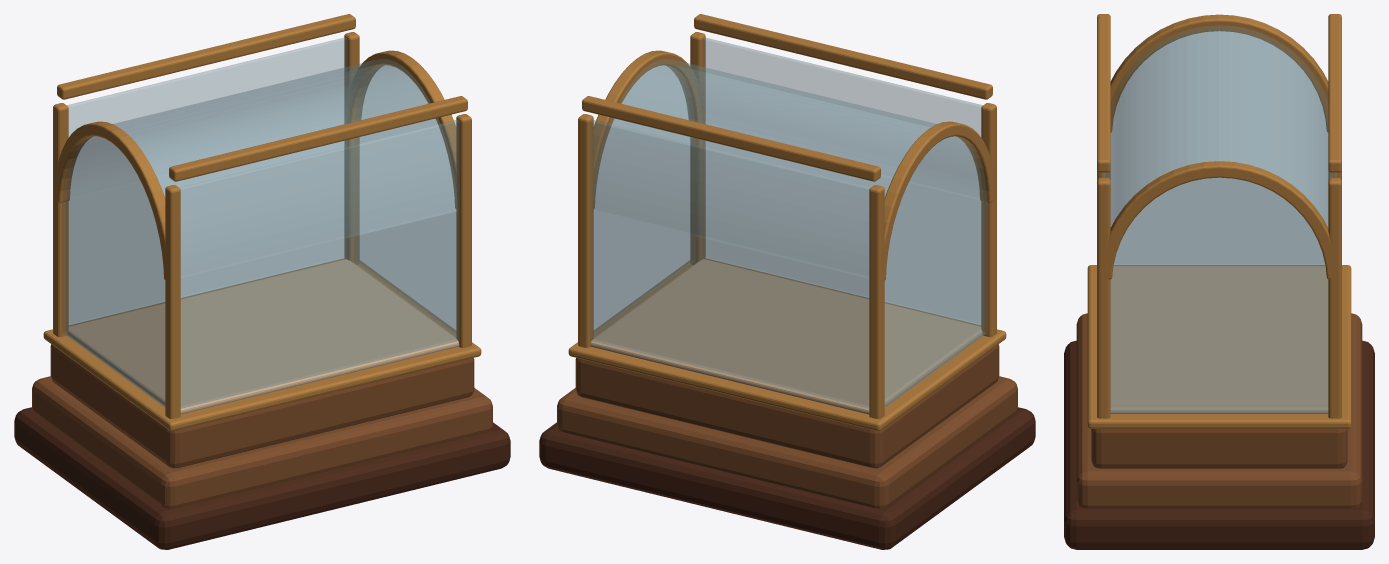
File: opening-studio-display.glb
The picture shows the model from 3 angles, left to right: view 1: azimuth 30°, elevation 25°; view 2: azimuth 150°, elevation 25°; view 3: azimuth 270°, elevation 25°; orthographic projection. The views are drawn at different scales.
Parts seen in each view (by area): view 1: glass__display_front, glass__display_curved_roof, plaster__display_empty_deck, glass__display_back, glass__display_side_left, wood__display_foot, wood__display_plinth_lower, wood__display_plinth_upper, glass__display_side_right, brass__display_plinth_band, brass__display_front_rail, brass__display_back_rail (+6 smaller); view 2: glass__display_back, glass__display_curved_roof, plaster__display_empty_deck, glass__display_front, glass__display_side_left, wood__display_foot, wood__display_plinth_lower, wood__display_plinth_upper, glass__display_side_right, brass__display_plinth_band, brass__display_front_rail, brass__display_back_rail (+6 smaller); view 3: glass__display_side_right, glass__display_side_left, plaster__display_empty_deck, glass__display_curved_roof, wood__display_foot, wood__display_plinth_lower, wood__display_plinth_upper, brass__display_plinth_band, brass__display_roof_rib_right, brass__display_roof_rib_left, brass__display_post_03, brass__display_post_04 (+2 smaller).
Part boxes in pixels (left/top/right/bottom): glass__display_front: left=179, top=120, right=459, bottom=408; glass__display_curved_roof: left=70, top=59, right=456, bottom=278; plaster__display_empty_deck: left=67, top=259, right=459, bottom=414; glass__display_back: left=67, top=37, right=346, bottom=325; glass__display_side_left: left=62, top=136, right=164, bottom=407; wood__display_foot: left=14, top=407, right=510, bottom=549; wood__display_plinth_lower: left=32, top=376, right=492, bottom=508; wood__display_plinth_upper: left=50, top=344, right=474, bottom=468; glass__display_side_right: left=354, top=65, right=455, bottom=335; brass__display_plinth_band: left=43, top=258, right=481, bottom=431; brass__display_front_rail: left=169, top=96, right=467, bottom=181; brass__display_back_rail: left=57, top=14, right=355, bottom=99; glass__display_back: left=590, top=120, right=870, bottom=408; glass__display_curved_roof: left=593, top=59, right=979, bottom=278; plaster__display_empty_deck: left=590, top=259, right=982, bottom=414; glass__display_front: left=703, top=37, right=982, bottom=325; glass__display_side_left: left=885, top=136, right=987, bottom=407; wood__display_foot: left=539, top=407, right=1035, bottom=549; wood__display_plinth_lower: left=557, top=376, right=1017, bottom=508; wood__display_plinth_upper: left=575, top=344, right=999, bottom=468; glass__display_side_right: left=594, top=65, right=695, bottom=335; brass__display_plinth_band: left=568, top=258, right=1006, bottom=431; brass__display_front_rail: left=694, top=14, right=992, bottom=99; brass__display_back_rail: left=582, top=96, right=880, bottom=181; glass__display_side_right: left=1111, top=178, right=1327, bottom=412; glass__display_side_left: left=1111, top=31, right=1327, bottom=265; plaster__display_empty_deck: left=1110, top=266, right=1328, bottom=413; glass__display_curved_roof: left=1105, top=25, right=1333, bottom=226; wood__display_foot: left=1064, top=340, right=1374, bottom=549; wood__display_plinth_lower: left=1076, top=313, right=1362, bottom=508; wood__display_plinth_upper: left=1091, top=429, right=1347, bottom=468; brass__display_plinth_band: left=1087, top=265, right=1351, bottom=428; brass__display_roof_rib_right: left=1101, top=161, right=1337, bottom=279; brass__display_roof_rib_left: left=1110, top=14, right=1328, bottom=132; brass__display_post_03: left=1097, top=178, right=1110, bottom=418; brass__display_post_04: left=1328, top=178, right=1341, bottom=418.
Bounding box in the file's own units: 2.34 × 2.31 × 1.72.
